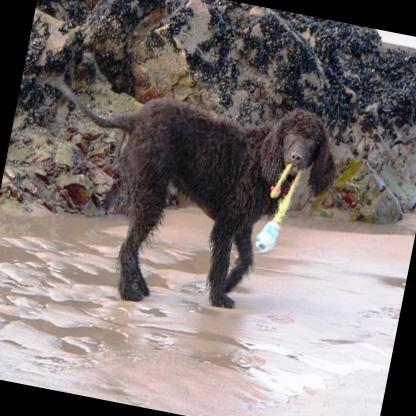Irish_water_spaniel: (37, 66, 344, 335)
